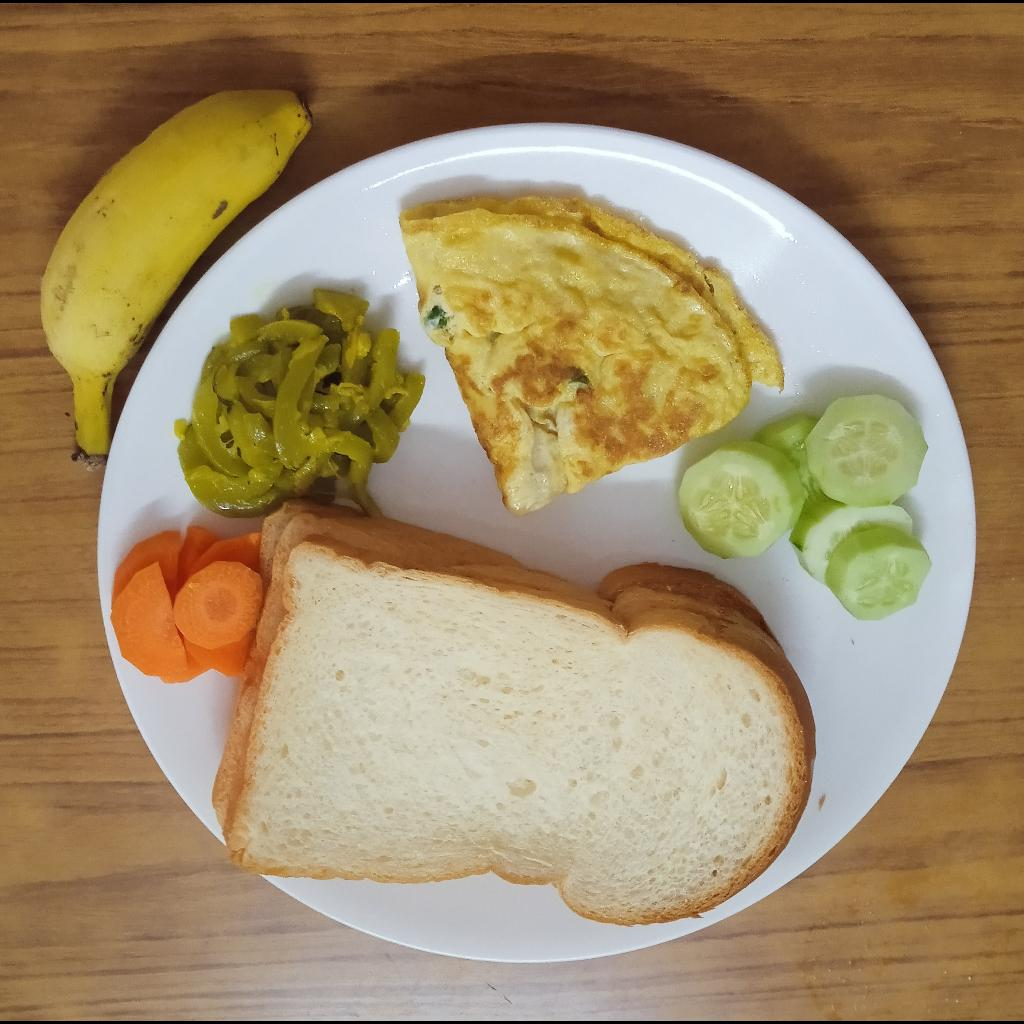banana: (37, 86, 317, 469)
bread: (209, 504, 818, 927)
carrot: (108, 526, 268, 681)
chichinga-vaji: (178, 288, 425, 519)
cucumber: (674, 391, 931, 625)
egg-poached: (405, 191, 790, 512)
